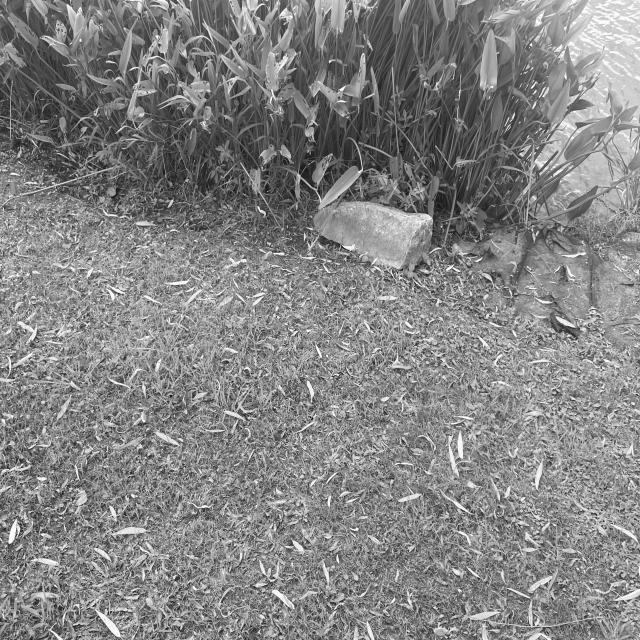Stone: (322, 201, 432, 268)
